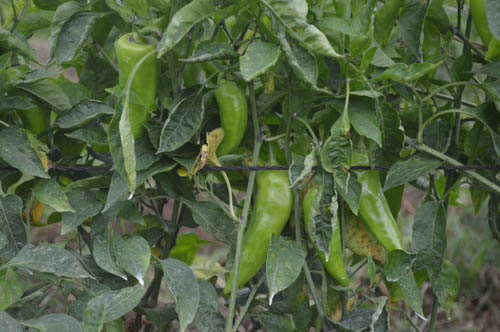ChiliPepper: (224, 170, 291, 300), (349, 150, 406, 252), (302, 189, 355, 287), (110, 38, 160, 137), (211, 85, 246, 157)
